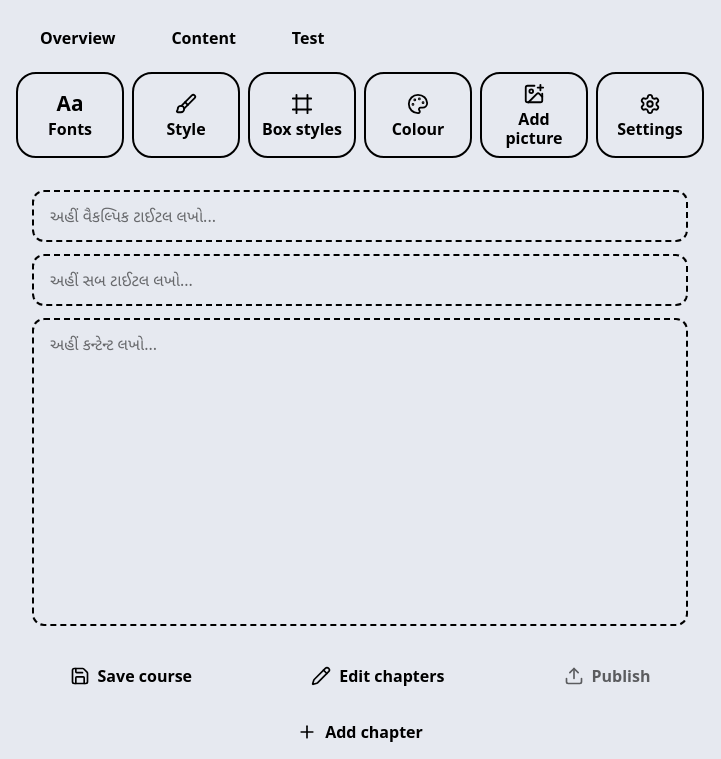
it: CourseWorkspace: the picture description may be empty › a picture that already has an empty description saves, with its other fields unchanged
The image size is (721, 759).
Later steps or results of the test are not shown.
Click the button "Content" at (204, 38), box [147,16,260,60]
(page scrolled)
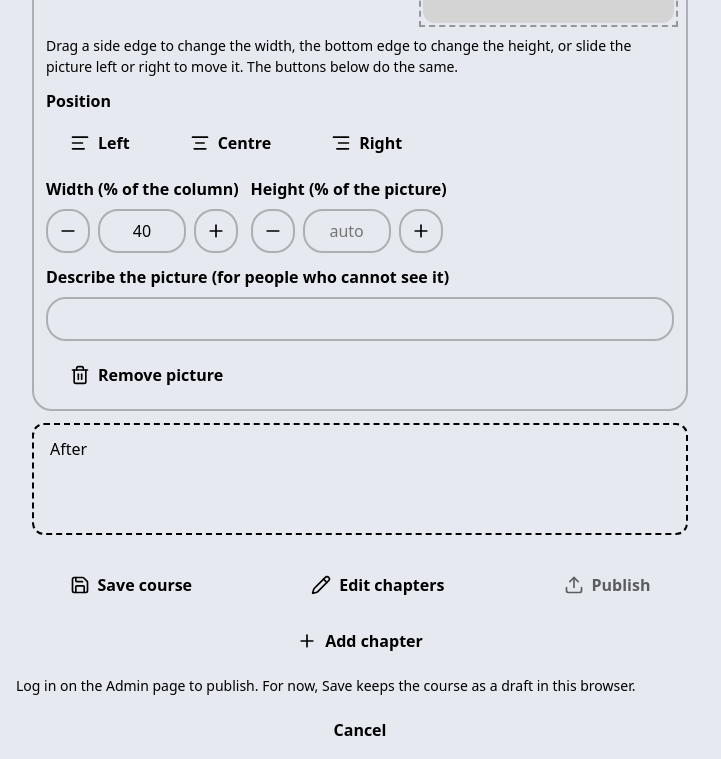
Now the field labelled "Describe the picture (for people who cannot see it)" is empty, box [46,297,674,341]
